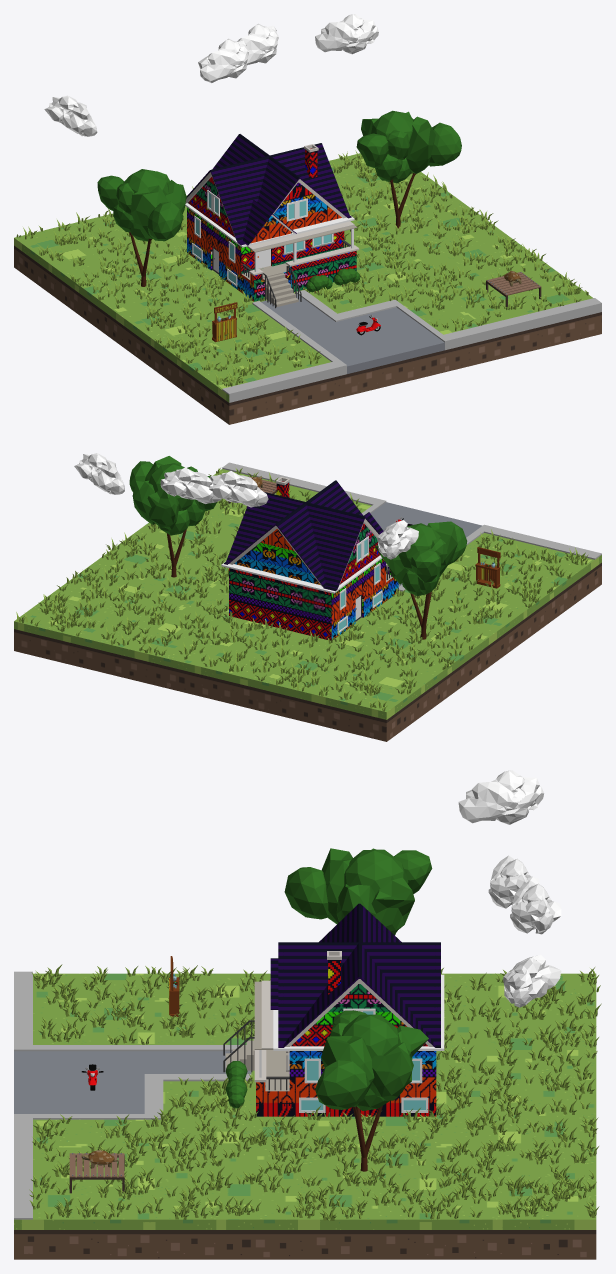
The picture shows the model from 3 angles, top to bottom: view 1: azimuth 30°, elevation 25°; view 2: azimuth 150°, elevation 25°; view 3: azimuth 270°, elevation 25°; orthographic projection. The views are drawn at different scales.
Parts seen in each view (by area): view 1: Cube.006, Cube.966, Circle.012_Grass_0.192, Cube.007, tree, tree.001, OBJRANDOM_LEMONADE_STAND, Cube.009; view 2: Cube.006, Cube.966, Circle.012_Grass_0.192, Cube.007, tree.001, tree, OBJRANDOM_LEMONADE_STAND; view 3: Cube.006, Circle.012_Grass_0.192, Cube.966, tree, Cube.007, tree.001, Cube.009.
Part boxes in pixels (left/top/right/bottom): Cube.006: left=14, top=153, right=601, bottom=424; Cube.966: left=185, top=134, right=359, bottom=308; Circle.012_Grass_0.192: left=16, top=150, right=588, bottom=386; Cube.007: left=44, top=14, right=378, bottom=136; tree: left=356, top=110, right=461, bottom=228; tree.001: left=97, top=169, right=186, bottom=286; OBJRANDOM_LEMONADE_STAND: left=212, top=302, right=237, bottom=342; Cube.009: left=486, top=272, right=541, bottom=306; Cube.006: left=14, top=462, right=601, bottom=741; Cube.966: left=221, top=477, right=398, bottom=640; Circle.012_Grass_0.192: left=16, top=468, right=588, bottom=711; Cube.007: left=74, top=453, right=418, bottom=559; tree.001: left=375, top=521, right=467, bottom=639; tree: left=129, top=456, right=216, bottom=577; OBJRANDOM_LEMONADE_STAND: left=475, top=547, right=500, bottom=588; Cube.006: left=14, top=971, right=596, bottom=1259; Circle.012_Grass_0.192: left=29, top=964, right=601, bottom=1220; Cube.966: left=223, top=903, right=444, bottom=1116; tree: left=315, top=1010, right=428, bottom=1171; Cube.007: left=458, top=770, right=561, bottom=1007; tree.001: left=284, top=848, right=432, bottom=935; Cube.009: left=69, top=1153, right=124, bottom=1193.
Bounding box in the file's own units: 4071 × 2198 × 4040.
Materials: 44 (8 with a texture image).
